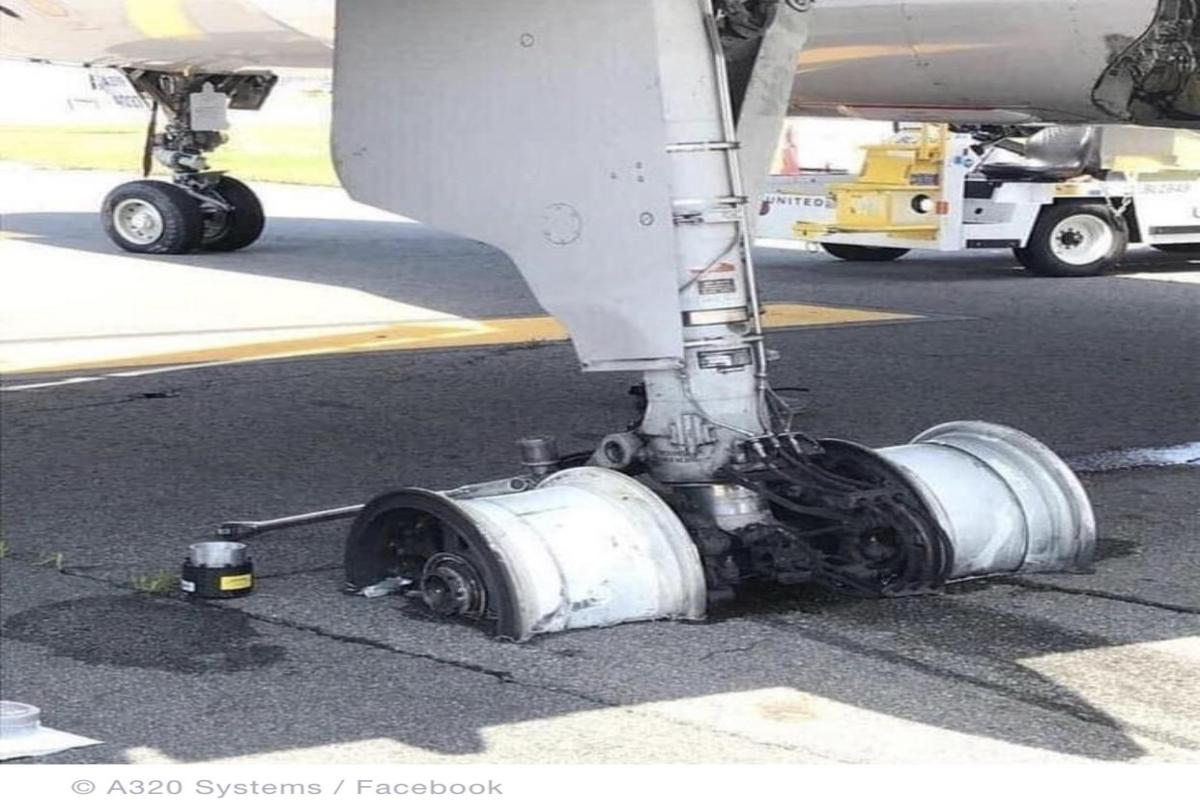Fuselage_damage: (290, 408, 1100, 660)
